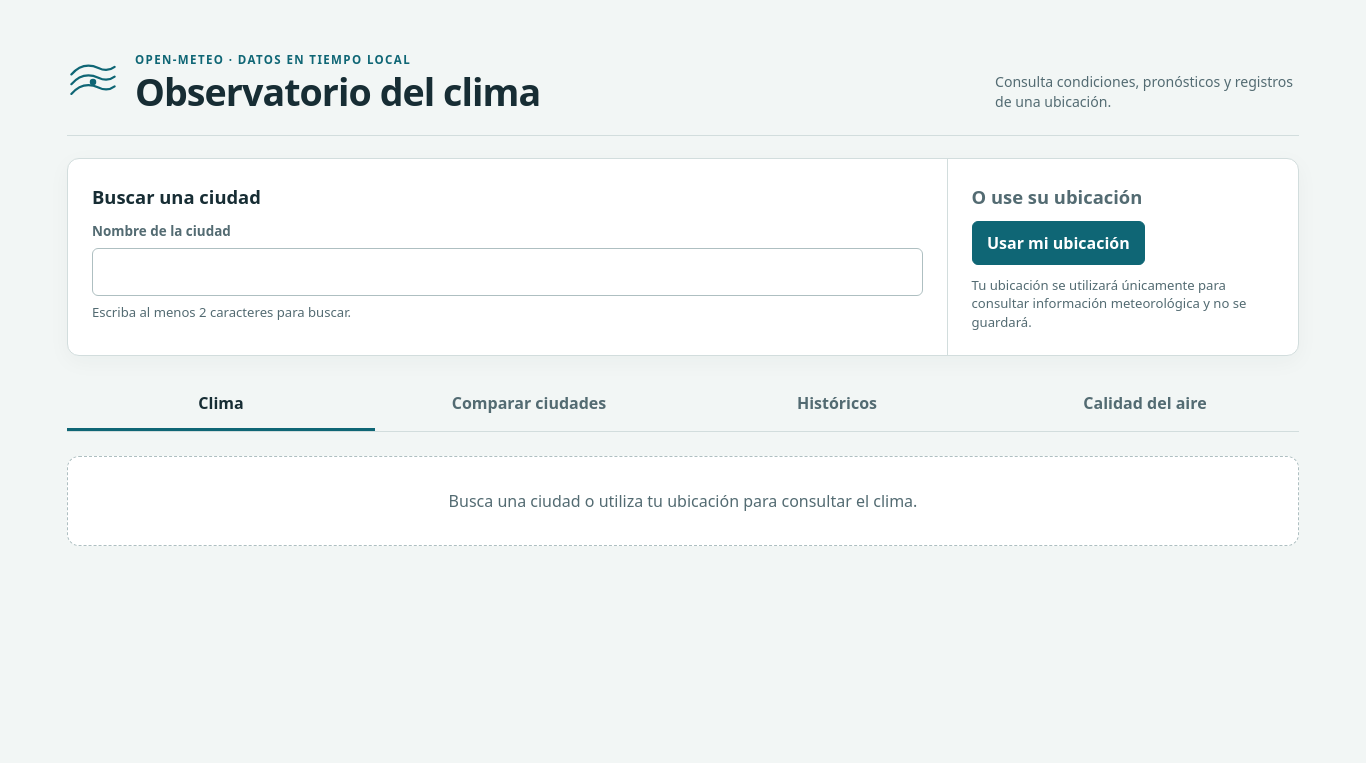
Test: RF-03: geolocalización del navegador › establece la ubicación y presenta coordenadas con dos decimales
Click the button "Usar mi ubicación" at (1058, 243), box [972,221,1145,265]
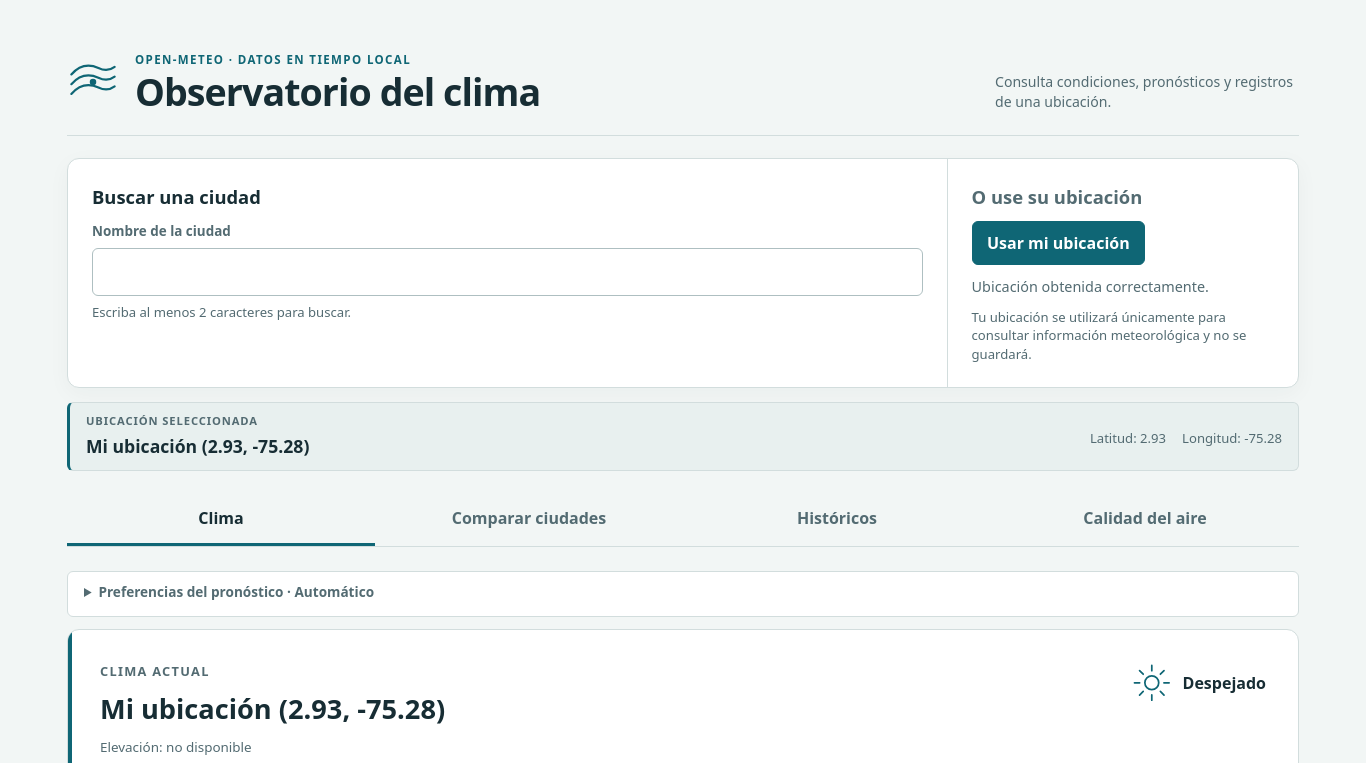
expect the text "Mi ubicación (2.93, -75.28)" below "Ubicación seleccionada" is shown: met, box [86,434,309,458]
expect the message "Ubicación seleccionada" is shown: met, box [67,402,1299,471]
expect the text "Ubicación obtenida correctamente." is shown: met, box [972,277,1209,296]
